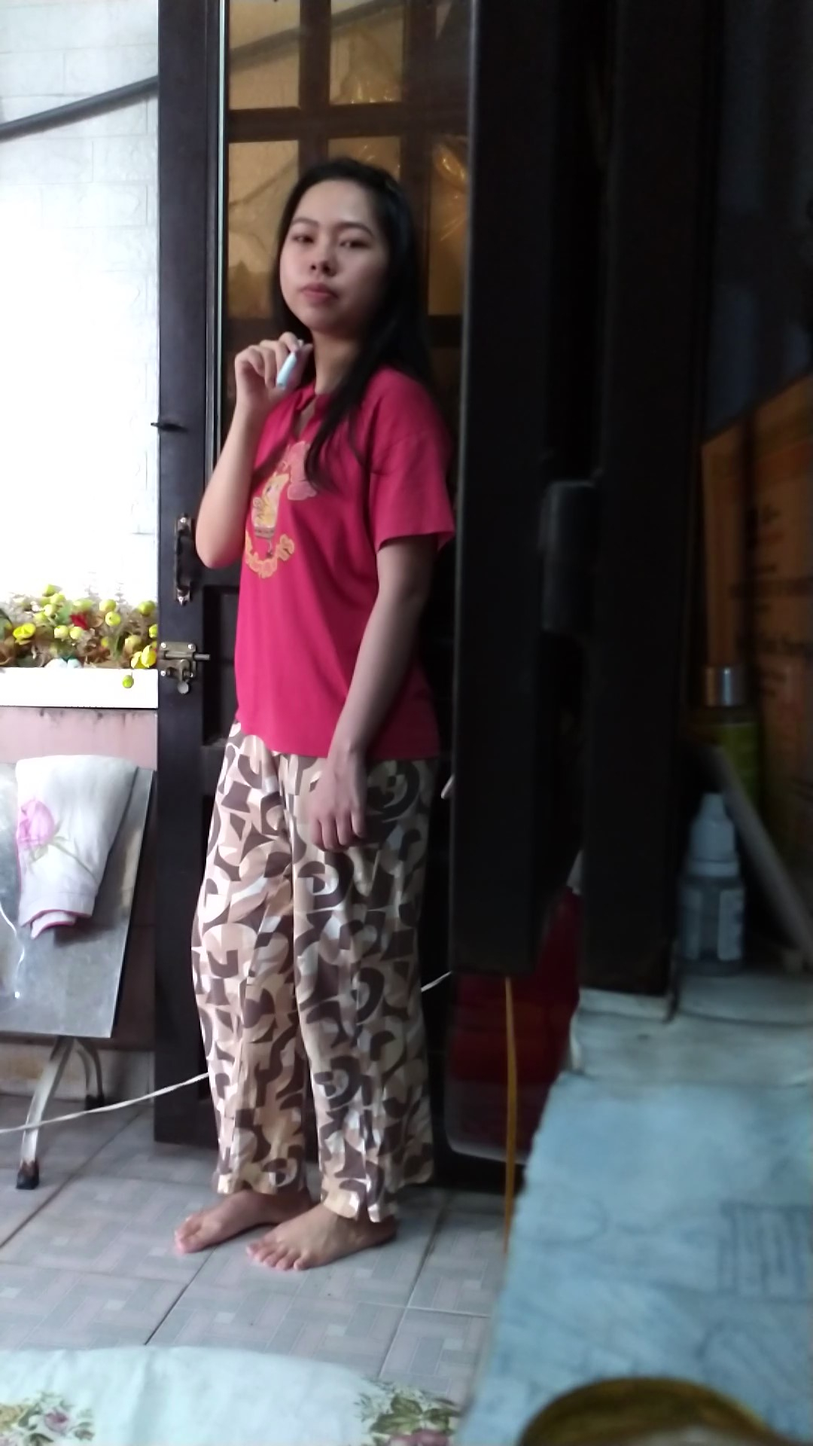cigarette: (273, 352, 299, 396)
person: (178, 115, 453, 1308)
